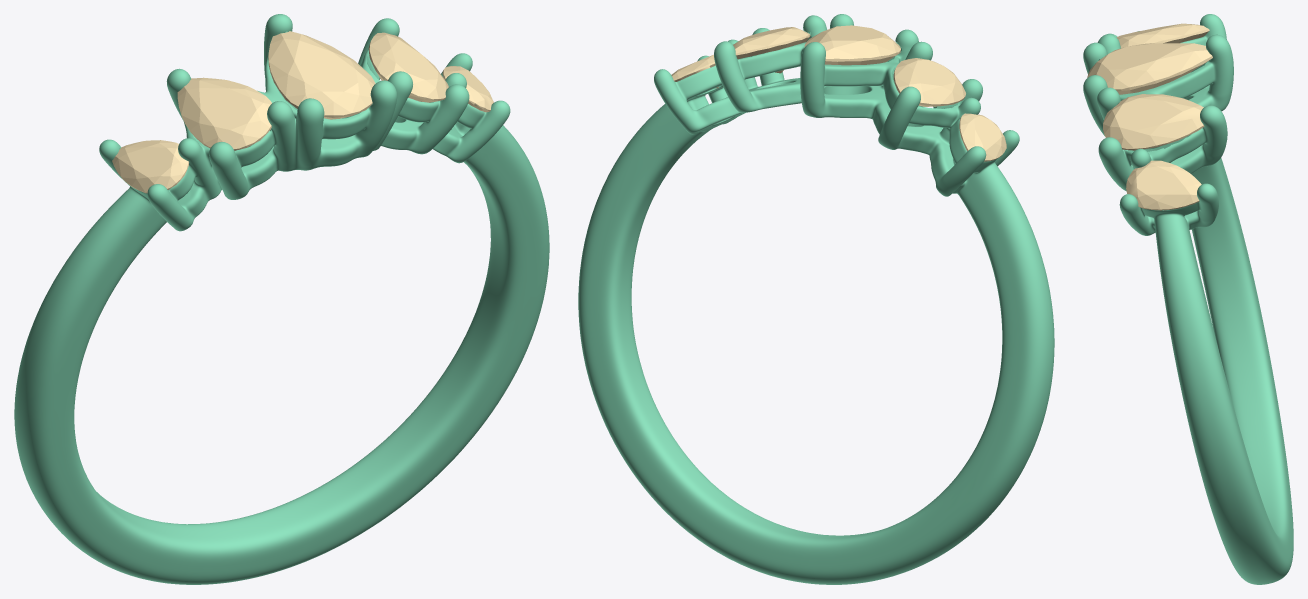
The picture shows the model from 3 angles, left to right: view 1: azimuth 30°, elevation 25°; view 2: azimuth 150°, elevation 25°; view 3: azimuth 270°, elevation 25°; orthographic projection. The views are drawn at different scales.
Parts seen in each view (by area): view 1: Metal02, Diamond_Round, Diamond_Round.004, Diamond_Round.001, Diamond_Round.003, Diamond_Round.002; view 2: Metal02, Diamond_Round, Diamond_Round.004, Diamond_Round.003, Diamond_Round.001; view 3: Metal02, Diamond_Round.001, Diamond_Round, Diamond_Round.002, Diamond_Round.004.
Boxes of the visible parts, <box> form: Metal02: <box>14,14,549,584</box>; Diamond_Round: <box>268,31,375,119</box>; Diamond_Round.004: <box>177,77,271,150</box>; Diamond_Round.001: <box>368,32,448,102</box>; Diamond_Round.003: <box>112,140,188,193</box>; Diamond_Round.002: <box>442,66,493,112</box>; Metal02: <box>578,14,1054,584</box>; Diamond_Round: <box>804,25,900,65</box>; Diamond_Round.004: <box>893,58,965,106</box>; Diamond_Round.003: <box>959,113,1006,161</box>; Diamond_Round.001: <box>733,27,810,73</box>; Metal02: <box>1083,14,1293,584</box>; Diamond_Round.001: <box>1103,94,1204,150</box>; Diamond_Round: <box>1087,43,1212,94</box>; Diamond_Round.002: <box>1126,160,1201,210</box>; Diamond_Round.004: <box>1116,23,1209,48</box>.
Size of the model in its own units: 20.1 by 21.37 by 7.8.
